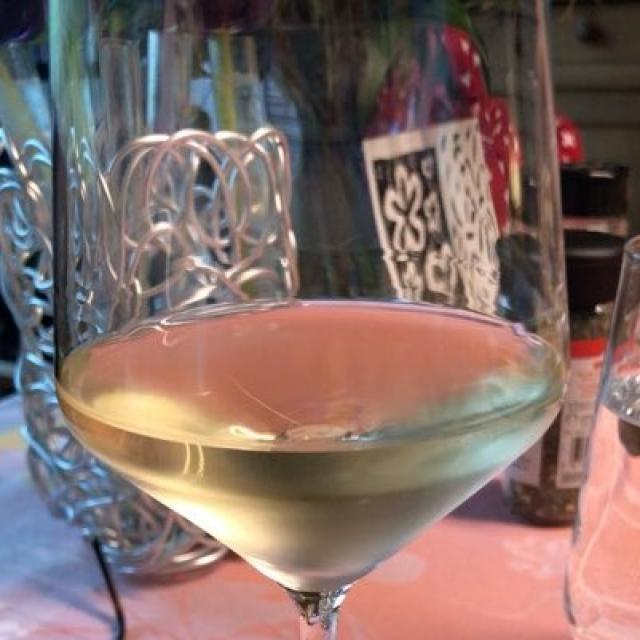wine: (50, 294, 577, 589)
